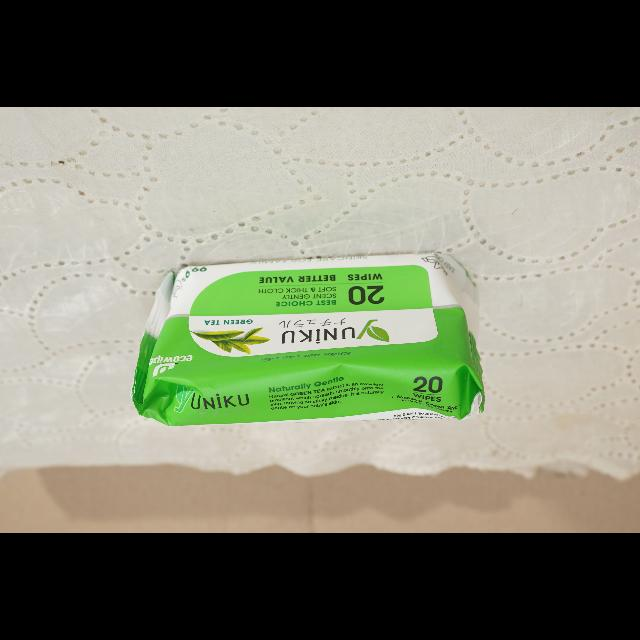khan_giay: (132, 253, 485, 426)
